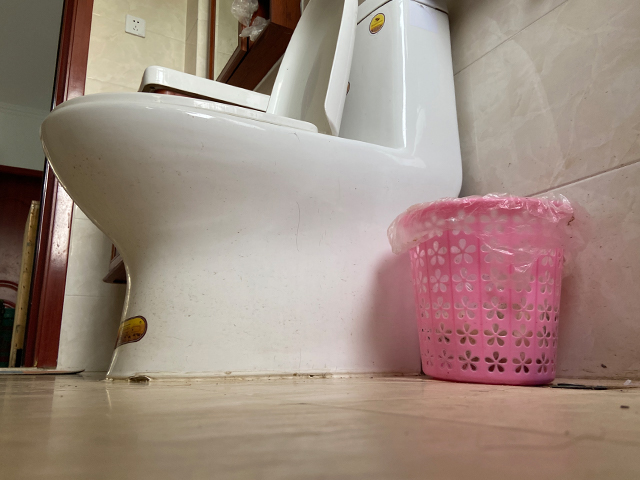carpet: (1, 365, 85, 377)
closestool: (39, 1, 464, 382)
trashcan: (386, 192, 577, 387)
